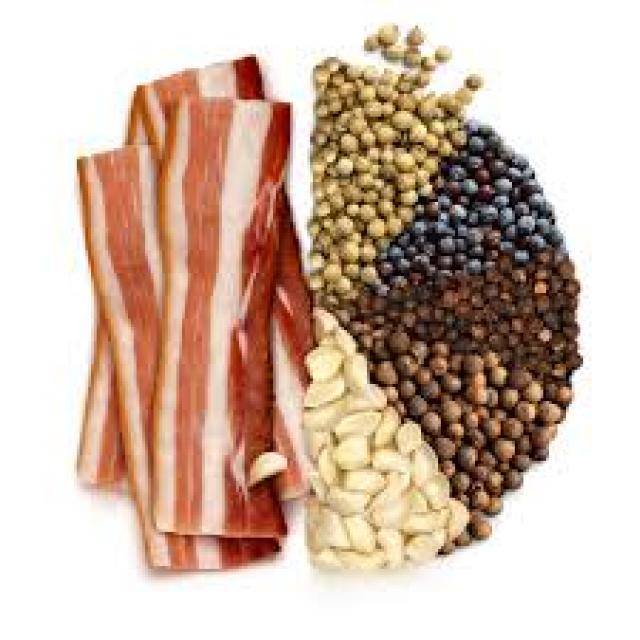bacon: (74, 53, 306, 567)
